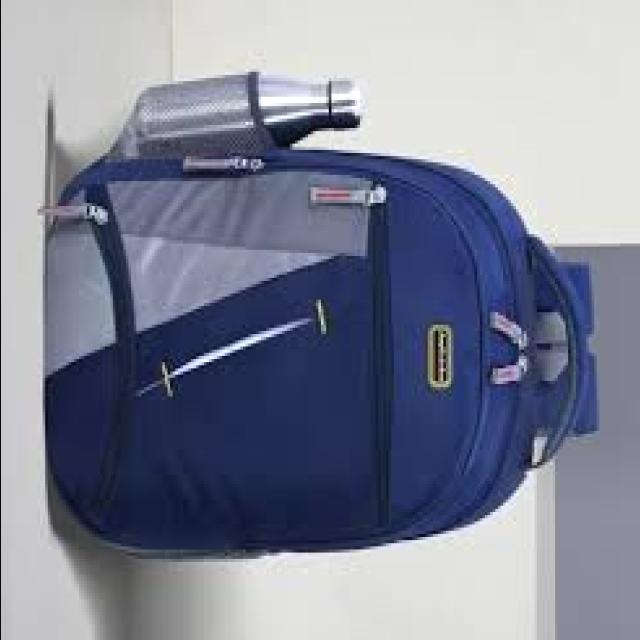backpack: (46, 70, 602, 564)
